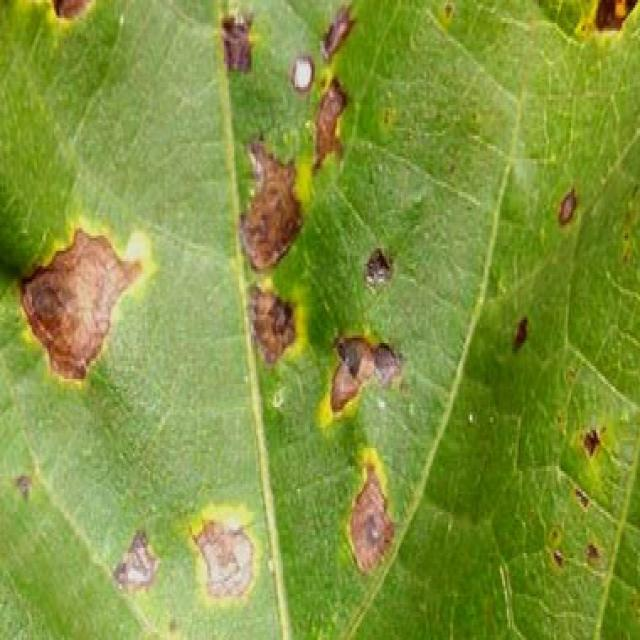Bacterial Blight: (179, 1, 417, 522)
